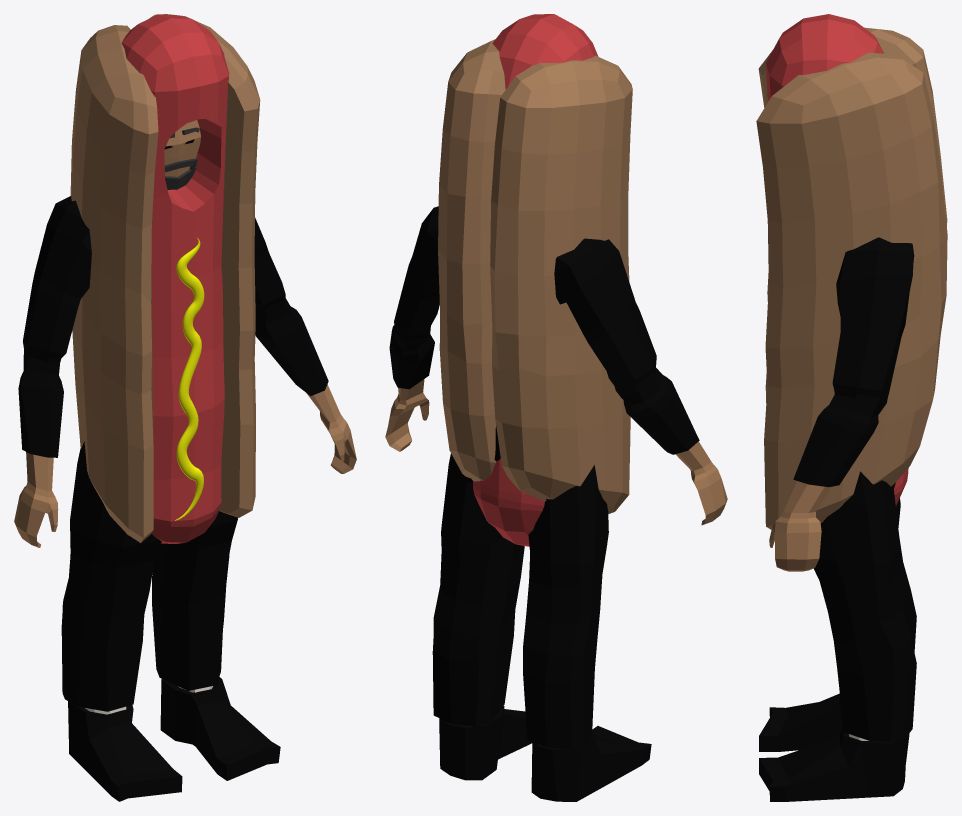
File: LPC_Hot_Dog_(srasmussen).fbx
The picture shows the model from 3 angles, left to right: view 1: azimuth 30°, elevation 25°; view 2: azimuth 150°, elevation 25°; view 3: azimuth 270°, elevation 25°; orthographic projection.
Parts seen in each view (by area): view 1: Hotdog, LPM_Pants_Black_B.001, LPM_Torso_Black_B, LPM_Shoes_Black_B.001, LPH_Arms.001, LPH_Head.001; view 2: Hotdog, LPM_Pants_Black_B.001, LPM_Torso_Black_B, LPM_Shoes_Black_B.001, LPH_Arms.001; view 3: Hotdog, LPM_Pants_Black_B.001, LPM_Torso_Black_B, LPM_Shoes_Black_B.001, LPH_Arms.001.
Part boxes in pixels (box(x1,y1,x2,y2)): Hotdog: box(70, 14, 260, 543); LPM_Pants_Black_B.001: box(61, 441, 237, 711); LPM_Torso_Black_B: box(18, 196, 328, 457); LPM_Shoes_Black_B.001: box(68, 677, 280, 801); LPH_Arms.001: box(14, 384, 356, 547); LPH_Head.001: box(164, 120, 200, 176); Hotdog: box(438, 14, 632, 546); LPM_Pants_Black_B.001: box(432, 426, 608, 749); LPM_Torso_Black_B: box(389, 206, 699, 454); LPM_Shoes_Black_B.001: box(439, 706, 651, 801); LPH_Arms.001: box(385, 379, 727, 525); Hotdog: box(756, 14, 947, 529); LPM_Pants_Black_B.001: box(813, 471, 916, 741); LPM_Torso_Black_B: box(793, 237, 914, 487); LPM_Shoes_Black_B.001: box(759, 693, 909, 801); LPH_Arms.001: box(769, 481, 831, 571).
Bounding box in the file's own units: 235 × 506 × 118.
1 material, 1 textured.
